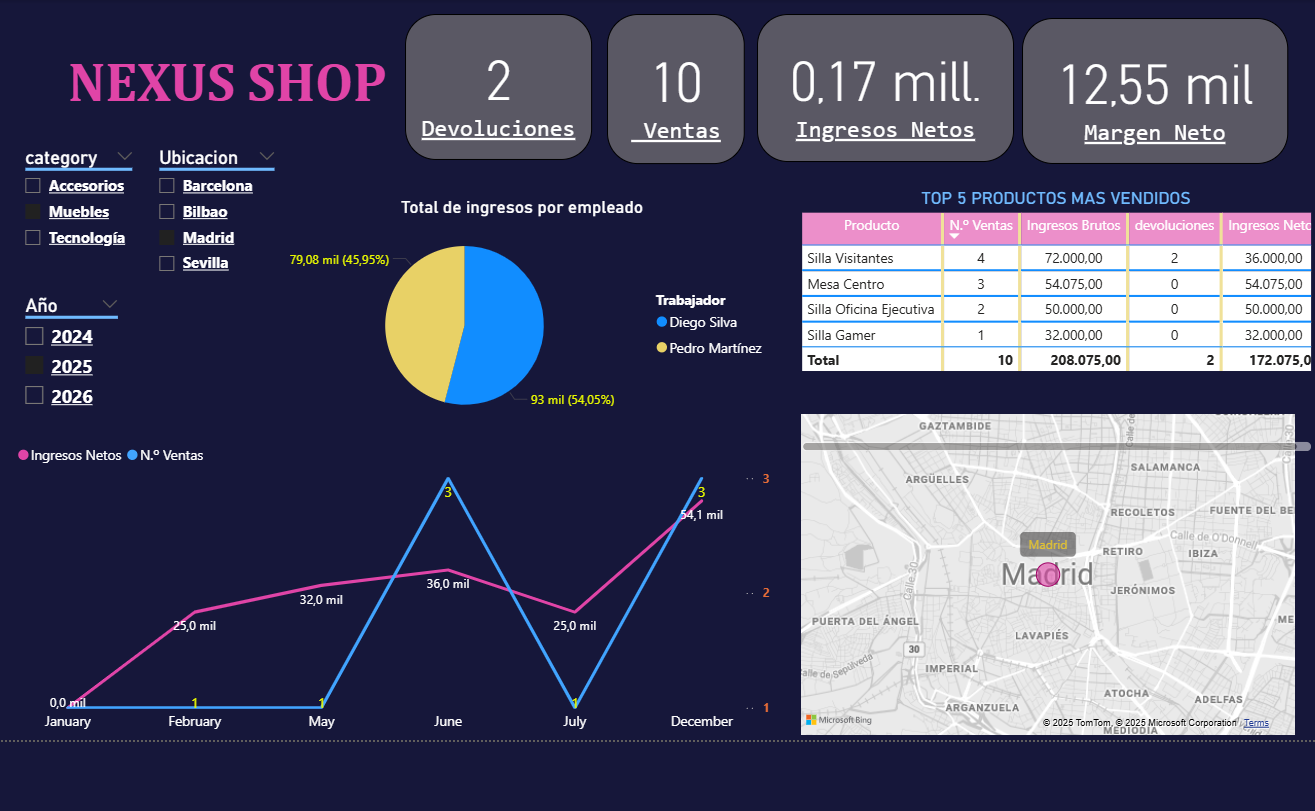

This screenshot's page, from the dashboard's own definition file:
{"tool":"powerbi","page":{"name":"Página 1","canvas":[1280,720],"ordinal":0},"visuals":[{"type":"card","fields":{"Values":["Sum(Consulta1.ingresos_netos)"]},"box":[736.3,13.6,250,144],"z":0},{"type":"card","fields":{"Values":["Sum(Consulta1.margen_neto)"]},"box":[994,17.5,258.7,142],"z":1000},{"type":"lineChart","fields":{"Y2":["Sum(Consulta1.total_ventas)"],"Category":["Consulta1.mes","Consulta1.numero_mes"],"Y":["Sum(Consulta1.ingresos_netos)"]},"box":[11.7,422.1,743.1,297.6],"z":2000},{"type":"slicer","fields":{"Values":["TablaCalendario.Año"]},"box":[11.3,281,115.9,130.3],"z":3000},{"type":"card","fields":{"Values":["Sum(Consulta1.total_ventas)"]},"box":[590.4,13.6,134.2,145.9],"z":4000},{"type":"slicer","fields":{"Values":["Consulta1.category"]},"box":[11.3,137.4,130.3,143.6],"z":5000},{"type":"card","fields":{"Values":["Sum(Consulta1.total_devoluciones)"]},"box":[393.9,13.6,181.9,142],"z":6000},{"type":"pieChart","title":"Total de ingresos por empleado","fields":{"Category":["Consulta1.employee_name"],"Y":["Sum(Consulta1.ingresos_netos)"]},"box":[260.5,191.8,494.4,230.8],"z":7000},{"type":"slicer","fields":{"Values":["Consulta1.store_location"]},"box":[141.5,137.4,138.5,175.4],"z":8000},{"type":"map","fields":{"Category":["Consulta1.Ubicacion"],"Size":["Sum(Consulta1.ingresos_netos)"]},"box":[774.4,397.9,490.3,322.1],"z":9000},{"type":"tableEx","title":"TOP 5 PRODUCTOS MAS VENDIDOS","fields":{"Values":["Consulta1.product_name","Sum(Consulta1.total_ventas)","Sum(Consulta1.total_ingresos_brutos)","Sum(Consulta1.total_devoluciones)","Sum(Consulta1.ingresos_netos)"]},"box":[774.4,182.6,505.6,260.5],"z":10000},{"type":"textbox","box":[34.9,42.1,372.3,83.1],"z":11000}]}

Visuals, with their boxes on the page's 1280x720 design canvas (x1, y1, x2, y2). These are canvas units, not pixel positions in the 1315x811 screenshot, which may show the page scaled, cropped or inside an application window:
card - Sum(Consulta1.ingresos_netos): locate(736, 14, 986, 158)
card - Sum(Consulta1.margen_neto): locate(994, 18, 1253, 160)
lineChart - Sum(Consulta1.total_ventas) x Consulta1.mes: locate(12, 422, 755, 720)
slicer - TablaCalendario.Año: locate(11, 281, 127, 411)
card - Sum(Consulta1.total_ventas): locate(590, 14, 725, 160)
slicer - Consulta1.category: locate(11, 137, 142, 281)
card - Sum(Consulta1.total_devoluciones): locate(394, 14, 576, 156)
"Total de ingresos por empleado" pieChart: locate(260, 192, 755, 423)
slicer - Consulta1.store_location: locate(142, 137, 280, 313)
map - Consulta1.Ubicacion x Sum(Consulta1.ingresos_netos): locate(774, 398, 1265, 720)
"TOP 5 PRODUCTOS MAS VENDIDOS" tableEx: locate(774, 183, 1280, 443)
textbox: locate(35, 42, 407, 125)
